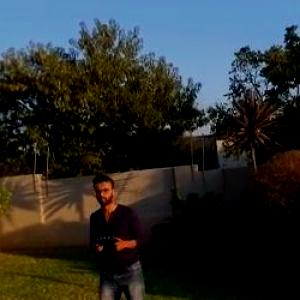follow: (86, 169, 174, 299)
